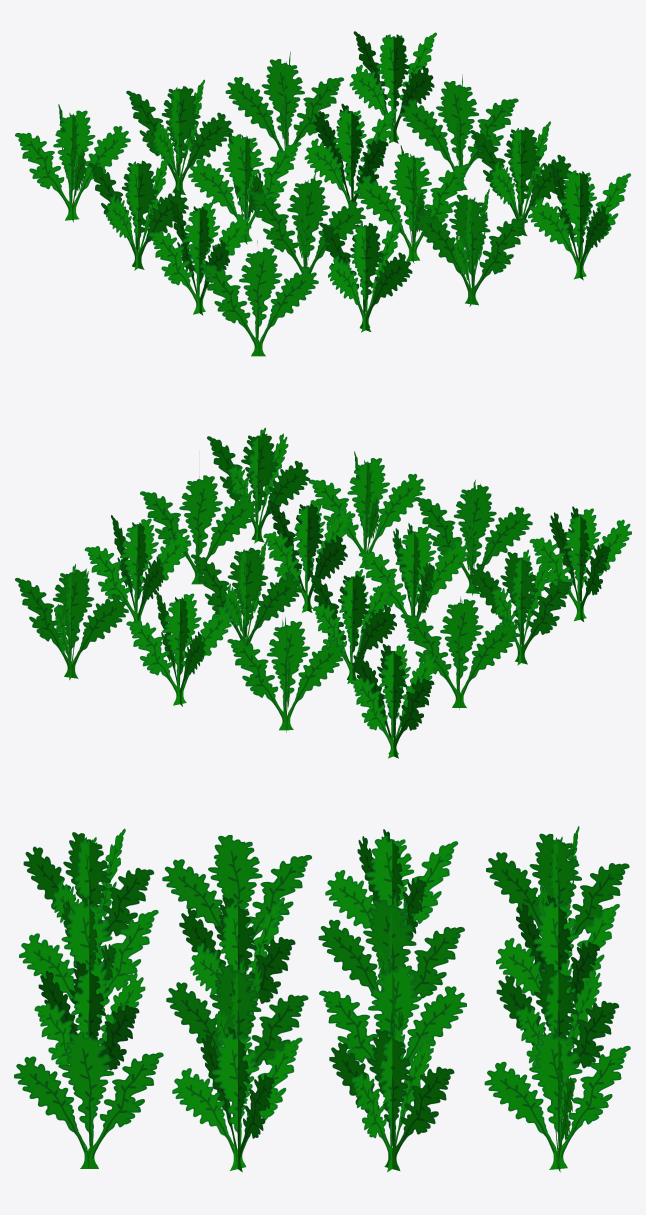
File: carrot-stage2.glb
3 renders of one model, top to bottom at view 1: azimuth 30°, elevation 25°; view 2: azimuth 150°, elevation 25°; view 3: azimuth 270°, elevation 25°, orthographic. The views are drawn at different scales.
Visible parts, largest first — view 1: Carrot_F2.001; view 2: Carrot_F2.001; view 3: Carrot_F2.001.
Boxes of the visible parts, x1=… form: Carrot_F2.001: x1=15, y1=31, x2=630, y2=356; Carrot_F2.001: x1=15, y1=427, x2=631, y2=758; Carrot_F2.001: x1=14, y1=826, x2=630, y2=1172.
Bounding box in the file's own units: 2.16 × 0.5264 × 2.16.
1 material, 1 textured.
